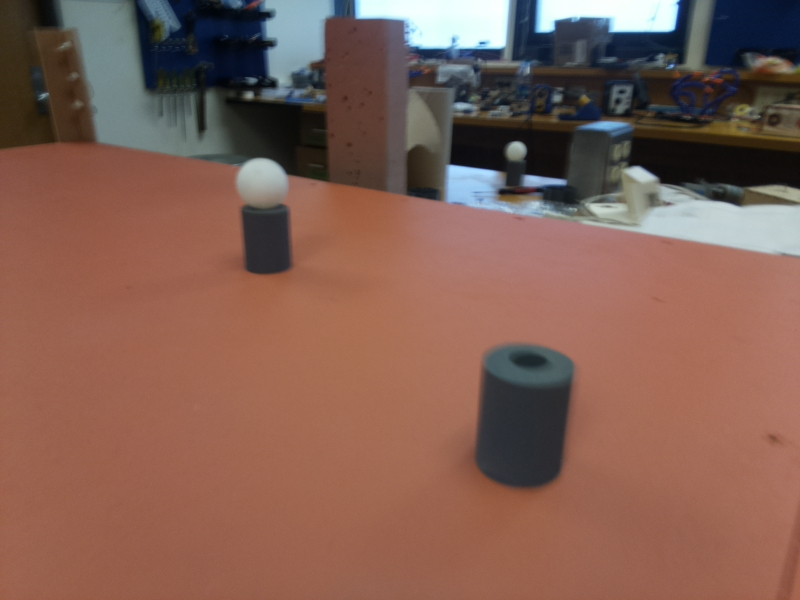corner: (41, 27, 89, 147)
obstacle: (479, 343, 575, 488), (236, 153, 299, 272)
